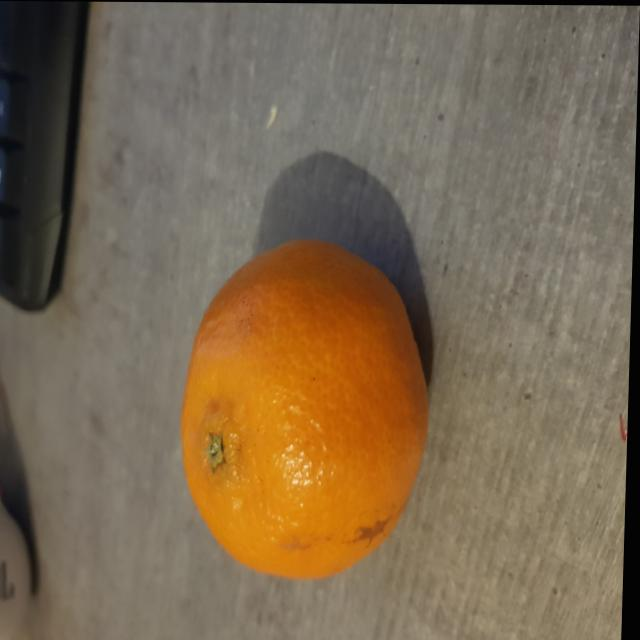Orange: (184, 236, 433, 579)
